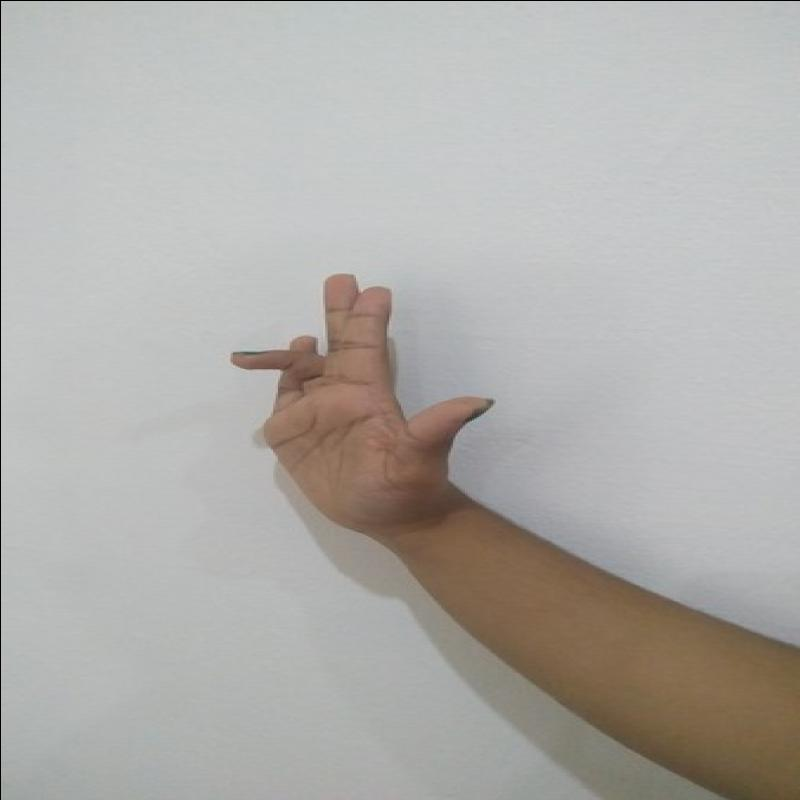Pathaaka: (218, 266, 515, 542)
